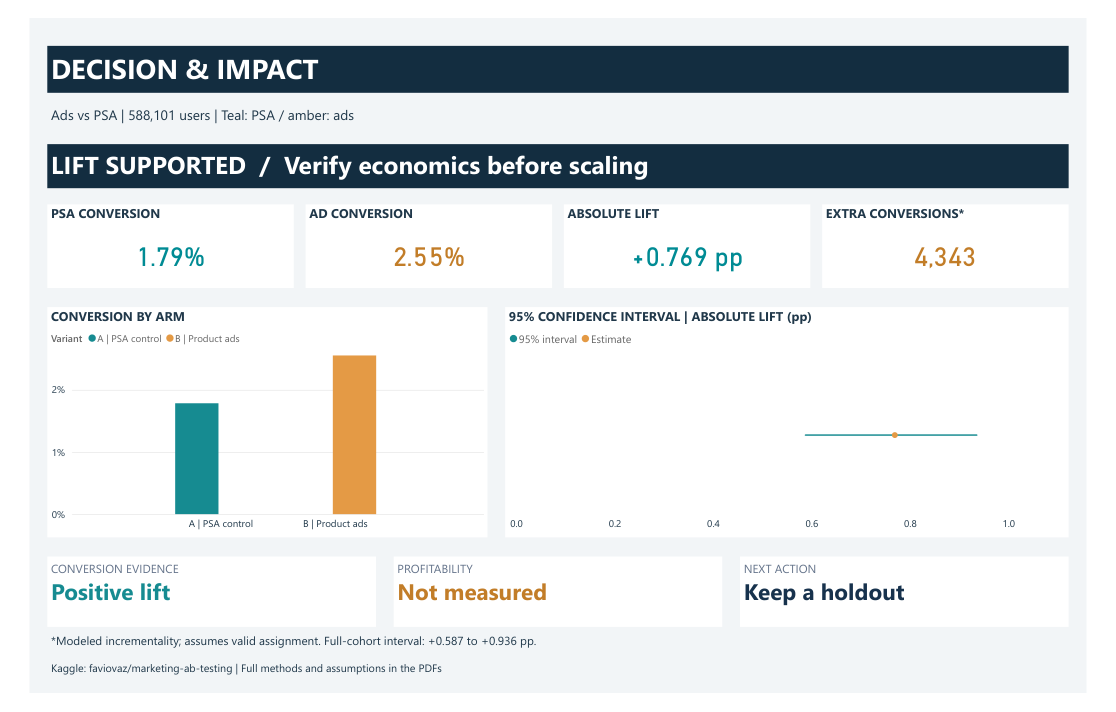

The page's visual inventory and layout, read from the dashboard file:
{"tool":"powerbi","page":{"name":"Decision & impact","canvas":[1440,900],"ordinal":0},"visuals":[{"type":"textbox","box":[24,18,1392,64],"z":1},{"type":"textbox","box":[24,94,1038,42],"z":1},{"type":"textbox","box":[24,152,1392,60],"z":1},{"type":"card","title":"PSA CONVERSION","fields":{"Values":["Experiment.PSA rate"]},"box":[24,234,336,114],"z":1},{"type":"card","title":"AD CONVERSION","fields":{"Values":["Experiment.Ad rate"]},"box":[376,234,336,114],"z":1},{"type":"card","title":"ABSOLUTE LIFT","fields":{"Values":["Experiment.Full cohort lift pp"]},"box":[728,234,336,114],"z":1},{"type":"card","title":"EXTRA CONVERSIONS*","fields":{"Values":["Experiment.Full cohort incremental conversions"]},"box":[1080,234,336,114],"z":1},{"type":"clusteredColumnChart","title":"CONVERSION BY ARM","fields":{"Category":["Experiment.Variant"],"Y":["Experiment.Conversion rate"],"Series":["Experiment.Variant"]},"box":[24,374,600,314],"z":1},{"type":"lineChart","title":"95% CONFIDENCE INTERVAL | ABSOLUTE LIFT (pp)","fields":{"Category":["Evidence.Lift pp"],"Y":["Evidence.95% interval","Evidence.Estimate"]},"box":[648,374,768,314],"z":1},{"type":"textbox","box":[24,714,448,96],"z":1},{"type":"textbox","box":[496,714,448,96],"z":1},{"type":"textbox","box":[968,714,448,96],"z":1},{"type":"textbox","box":[24,812,1392,32],"z":1},{"type":"textbox","box":[24,850,1392,34],"z":1}]}

Visuals, with their boxes in screenshot pixels (x1, y1, x2, y2), scaled from the page's 1440x900 canvas onto the 1116x712 screenshot:
textbox: left=19, top=14, right=1097, bottom=65
textbox: left=19, top=74, right=823, bottom=108
textbox: left=19, top=120, right=1097, bottom=168
"PSA CONVERSION" card: left=19, top=185, right=279, bottom=275
"AD CONVERSION" card: left=291, top=185, right=552, bottom=275
"ABSOLUTE LIFT" card: left=564, top=185, right=825, bottom=275
"EXTRA CONVERSIONS*" card: left=837, top=185, right=1097, bottom=275
"CONVERSION BY ARM" clusteredColumnChart: left=19, top=296, right=484, bottom=544
"95% CONFIDENCE INTERVAL | ABSOLUTE LIFT (pp)" lineChart: left=502, top=296, right=1097, bottom=544
textbox: left=19, top=565, right=366, bottom=641
textbox: left=384, top=565, right=732, bottom=641
textbox: left=750, top=565, right=1097, bottom=641
textbox: left=19, top=642, right=1097, bottom=668
textbox: left=19, top=672, right=1097, bottom=699
